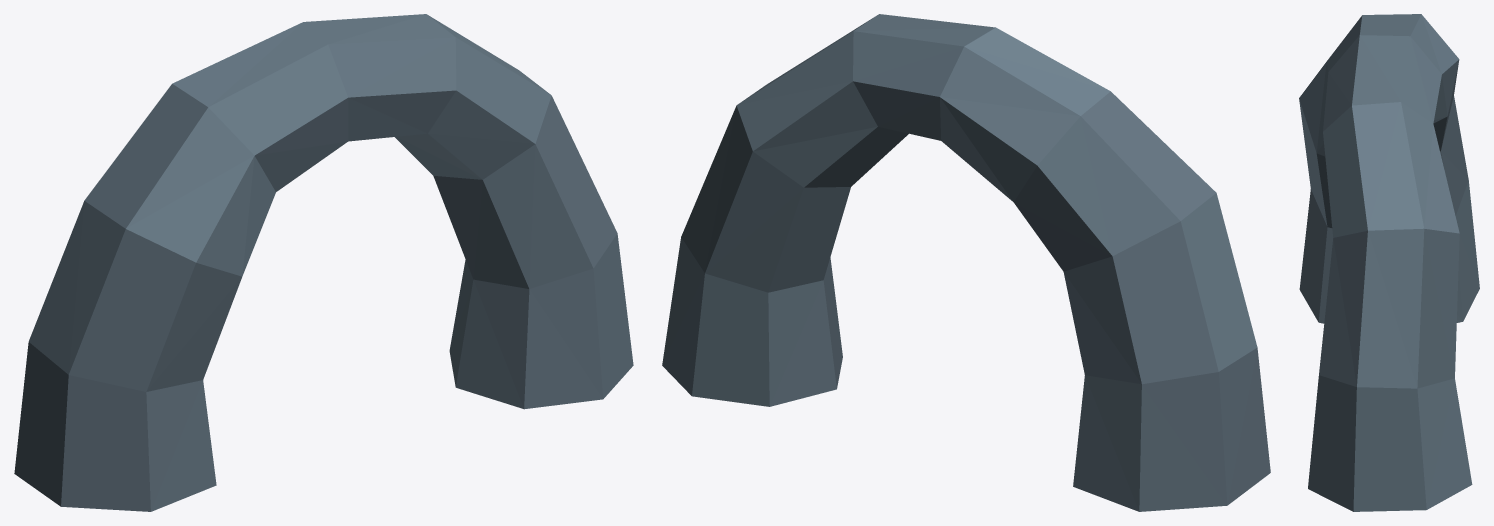
Rendered from T06_Rock_Arch.fbx.
3 renders of one model, left to right at view 1: azimuth 30°, elevation 25°; view 2: azimuth 150°, elevation 25°; view 3: azimuth 270°, elevation 25°, orthographic. The views are drawn at different scales.
Parts seen in each view (by area): view 1: T06_Rock_Arch; view 2: T06_Rock_Arch; view 3: T06_Rock_Arch.
Boxes of the visible parts, bbox=[...] form: T06_Rock_Arch: bbox=[14, 14, 633, 511]; T06_Rock_Arch: bbox=[662, 14, 1270, 511]; T06_Rock_Arch: bbox=[1299, 14, 1479, 511].
Bounding box in the file's own units: 3.63 × 2.37 × 1.11.
Materials: 1 (1 with a texture image).
